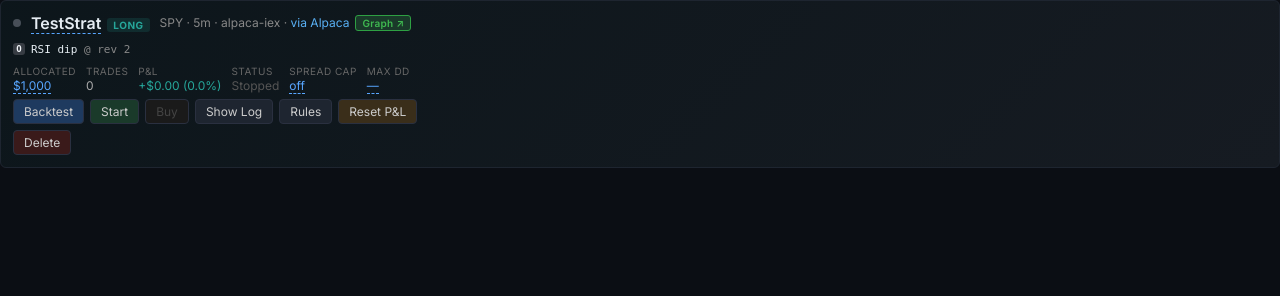
it: BotCard Rules button (F454) › loads the rules on click and shows one line per sentence
This screenshot has width=1280, height=296.
Click the button with test id "botcard-rules-btn".
click(306, 112)  # box [279,99,332,124]
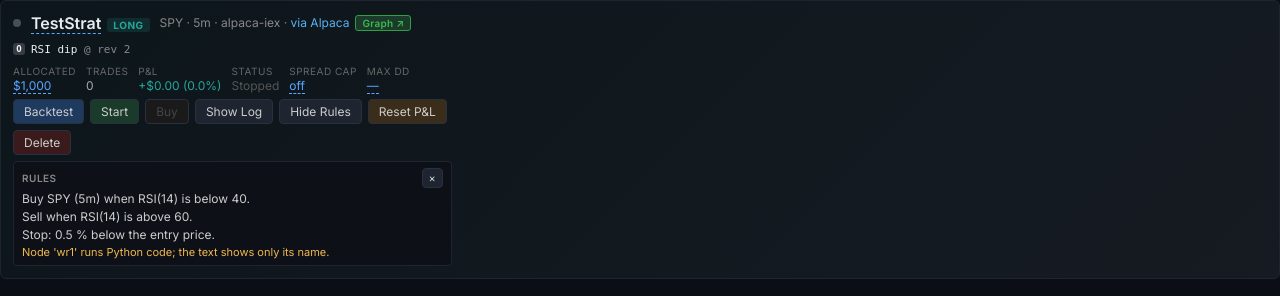
Expected: the elements with test id "botcard-rules-line" read "Buy SPY (5m) when RSI(14) is below 40.", "Sell when RSI(14) is above 60.", "Stop: 0.5 % below the entry price.", in this order, [22,191,250,206]; [22,209,192,224]; [22,227,215,242]
Expected: the number of elements with test id "botcard-rules-warning" is 1, [22,245,329,259]
Expected: the button with test id "botcard-rules-btn" reads "Hide Rules"
Note: Clicking again closes it.
Click the button with test id "botcard-rules-btn".
click(320, 112)  # box [279,99,362,124]
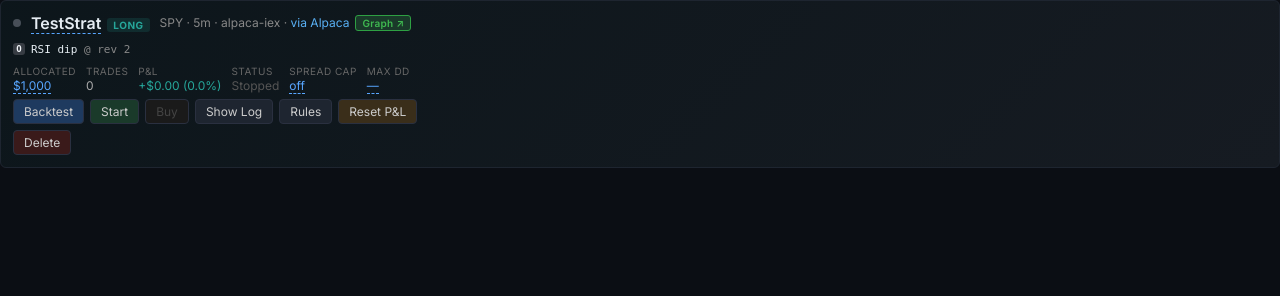
Expected: the element with test id "botcard-rules" is gone
Expected: the button with test id "botcard-rules-btn" reads "Rules", [279,99,332,124]
